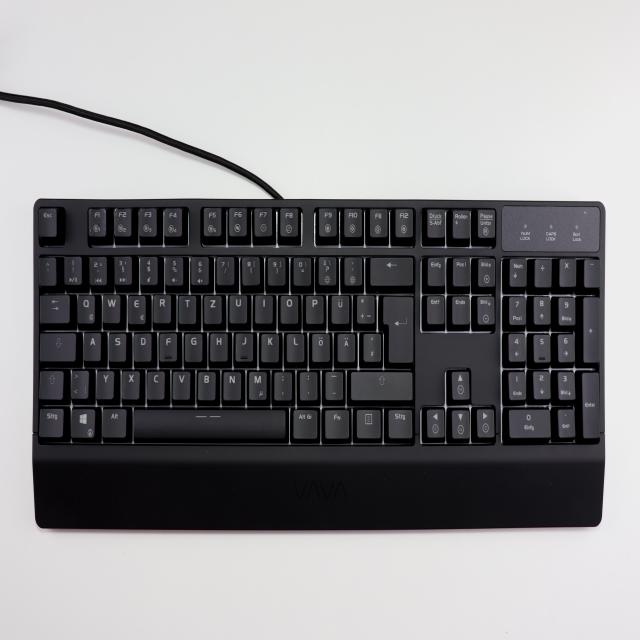0: (98, 81, 105, 91)
1: (19, 81, 26, 91)
2: (28, 81, 34, 92)
3: (37, 81, 43, 92)
4: (45, 81, 52, 92)
5: (54, 81, 61, 92)
6: (63, 81, 70, 92)
7: (71, 81, 78, 91)
8: (80, 81, 87, 92)
9: (89, 81, 96, 91)
a: (26, 107, 32, 117)
accent: (115, 81, 122, 92)
ae: (113, 107, 120, 118)
alt-left: (33, 133, 42, 144)
altgr-right: (97, 133, 107, 144)
b: (65, 120, 72, 131)
c: (48, 120, 54, 131)
caret: (11, 81, 17, 91)
comma: (91, 120, 97, 130)
d: (43, 107, 50, 118)
del: (123, 81, 139, 91)
e: (41, 94, 48, 105)
enter: (127, 94, 139, 118)
f: (52, 107, 58, 117)
g: (61, 107, 67, 117)
h: (69, 107, 76, 117)
hash: (121, 107, 128, 118)
i: (85, 94, 91, 104)
j: (78, 107, 84, 118)
k: (87, 107, 94, 118)
keyboard: (8, 60, 205, 150)
l: (95, 107, 102, 118)
less: (22, 119, 28, 130)
m: (82, 120, 89, 131)
minus: (108, 120, 115, 130)
n: (74, 120, 81, 131)
o: (93, 94, 100, 104)
oe: (104, 107, 111, 118)
p: (102, 94, 109, 104)
plus: (119, 94, 126, 105)
point: (100, 120, 107, 130)
q: (24, 94, 30, 105)
r: (50, 94, 57, 104)
s: (35, 107, 41, 118)
shift-left: (11, 120, 20, 130)
shift-lock: (11, 107, 24, 117)
shift-right: (117, 120, 138, 131)
space: (43, 133, 96, 145)
ss: (106, 81, 113, 92)
strg-left: (11, 133, 20, 143)
strg-right: (130, 133, 139, 144)
t: (58, 94, 65, 104)
tab: (11, 94, 22, 104)
u: (76, 94, 82, 104)
ue: (111, 94, 118, 105)
v: (56, 120, 63, 131)
w: (33, 94, 40, 105)
x: (39, 120, 46, 130)
y: (30, 119, 37, 130)
z: (67, 94, 74, 104)
